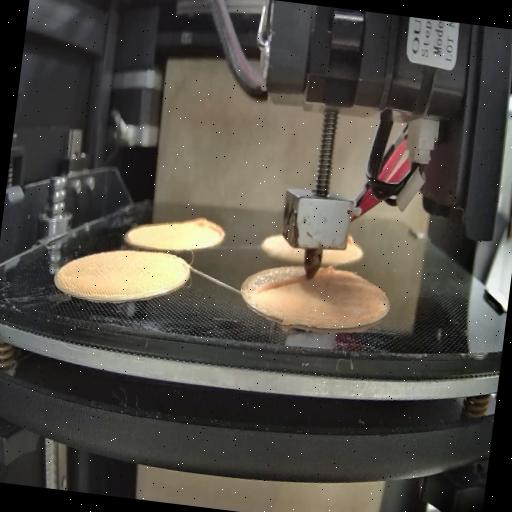over_extrusion: (256, 268, 308, 302), (190, 208, 230, 248), (320, 260, 335, 280), (346, 232, 355, 248)
